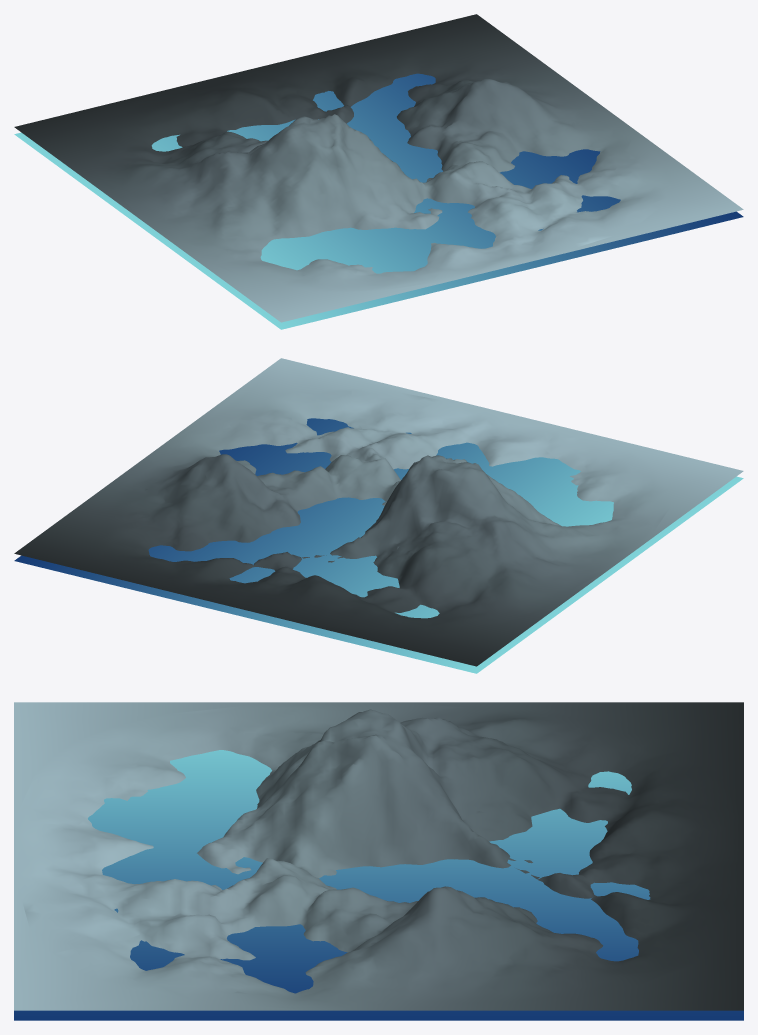
The model's file is MOUNTAIN_TEXTURE.fbx.
The picture shows the model from 3 angles, top to bottom: view 1: azimuth 30°, elevation 25°; view 2: azimuth 150°, elevation 25°; view 3: azimuth 270°, elevation 25°; orthographic projection. The views are drawn at different scales.
Visible parts, largest first — view 1: Landscape.001, Landscape_plane; view 2: Landscape.001, Landscape_plane; view 3: Landscape.001, Landscape_plane.
Part boxes in pixels (<box>): Landscape.001: <box>14,14,743,322</box>; Landscape_plane: <box>14,73,743,329</box>; Landscape.001: <box>14,358,743,666</box>; Landscape_plane: <box>14,418,743,673</box>; Landscape.001: <box>14,702,743,1010</box>; Landscape_plane: <box>14,750,743,1020</box>.
Bounding box in the file's own units: 23790 × 4439 × 23790.
2 materials, 2 textured.
